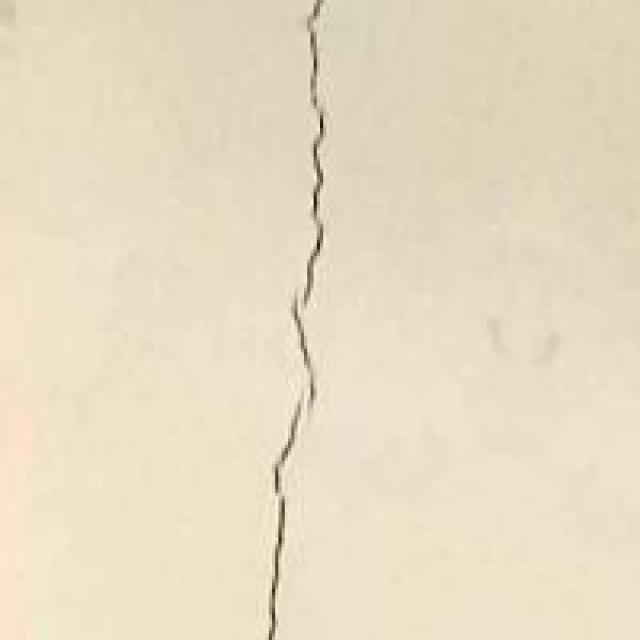crack: (230, 0, 388, 637)
